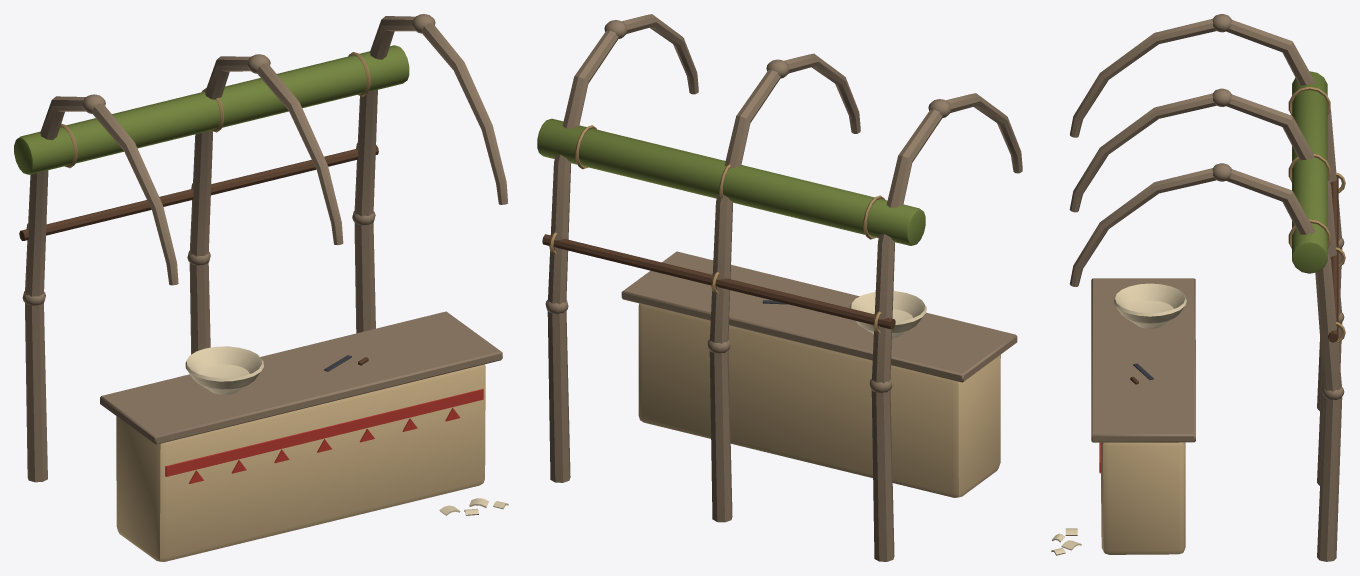
The model's file is deco_market_stall_bare.fbx.
3 views of the same model, side by side, from view 1: azimuth 30°, elevation 25°; view 2: azimuth 150°, elevation 25°; view 3: azimuth 270°, elevation 25° (orthographic). The views are drawn at different scales.
Parts seen in each view (by area): view 1: MarketStall_Bare_Counter, MarketStall_Bare_Ribs, MarketStall_Bare_CounterTop, MarketStall_Bare_RolledCanopy, MarketStall_Bare_Leftovers; view 2: MarketStall_Bare_Counter, MarketStall_Bare_Ribs, MarketStall_Bare_CounterTop, MarketStall_Bare_RolledCanopy, MarketStall_Bare_Leftovers; view 3: MarketStall_Bare_Ribs, MarketStall_Bare_CounterTop, MarketStall_Bare_Counter, MarketStall_Bare_RolledCanopy, MarketStall_Bare_Leftovers, MarketStall_Bare_Shards.
Part boxes in pixels (x1,y1,x2,y2): MarketStall_Bare_Counter: (116, 364, 485, 561); MarketStall_Bare_Ribs: (19, 14, 508, 482); MarketStall_Bare_CounterTop: (100, 311, 502, 444); MarketStall_Bare_RolledCanopy: (14, 45, 409, 174); MarketStall_Bare_Leftovers: (185, 346, 368, 394); MarketStall_Bare_Counter: (638, 303, 1000, 497); MarketStall_Bare_Ribs: (542, 14, 1022, 561); MarketStall_Bare_CounterTop: (621, 251, 1017, 382); MarketStall_Bare_RolledCanopy: (537, 118, 925, 245); MarketStall_Bare_Leftovers: (762, 291, 926, 338); MarketStall_Bare_Ribs: (1069, 14, 1345, 561); MarketStall_Bare_CounterTop: (1091, 278, 1195, 442); MarketStall_Bare_Counter: (1099, 442, 1185, 554); MarketStall_Bare_RolledCanopy: (1288, 71, 1330, 273); MarketStall_Bare_Leftovers: (1114, 283, 1186, 384); MarketStall_Bare_Shards: (1051, 528, 1081, 555).
Bounding box in the file's own units: 310 × 332 × 225.
